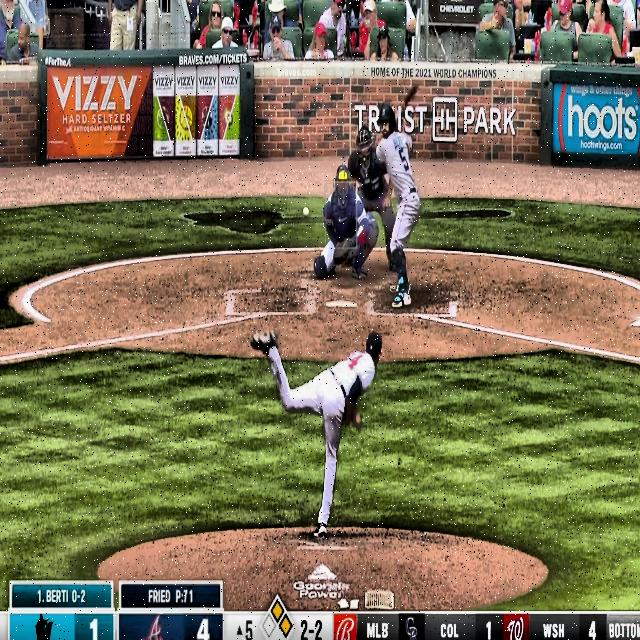baseball: (303, 206, 309, 218)
